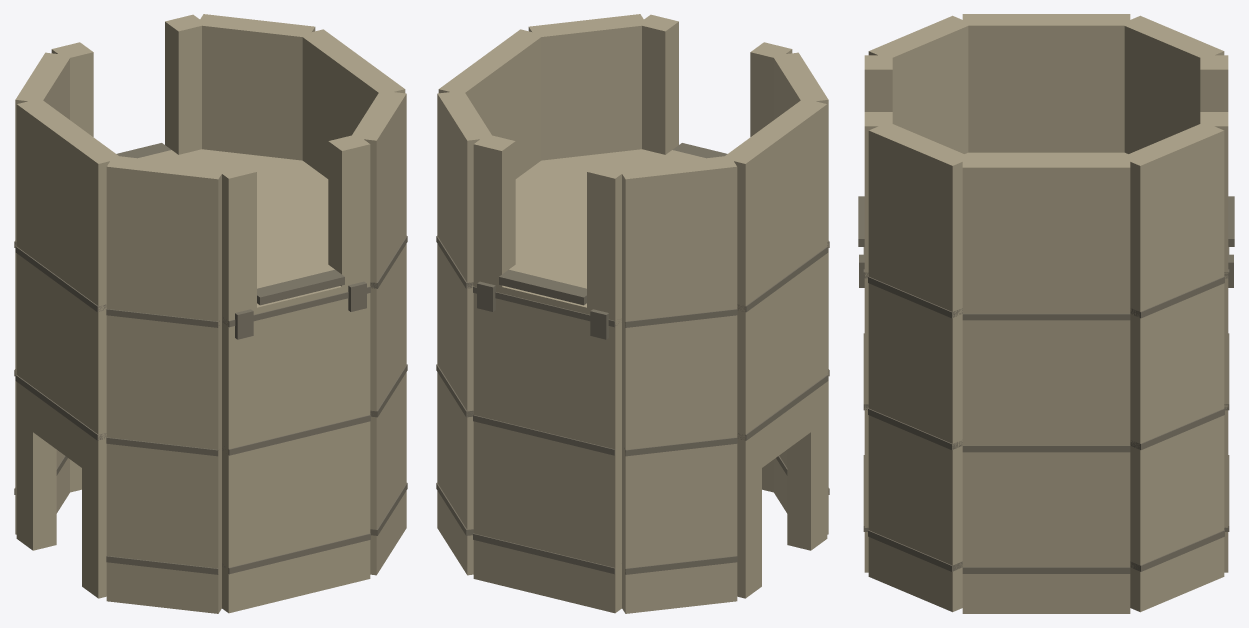
Rendered from reconstruction-tower-base.glb.
3 views of the same model, side by side, from view 1: azimuth 30°, elevation 25°; view 2: azimuth 150°, elevation 25°; view 3: azimuth 270°, elevation 25° (orthographic). The views are drawn at different scales.
Visible parts, largest first — view 1: Mesh_LimestoneStructure, Mesh_DarkStoneCourses; view 2: Mesh_LimestoneStructure, Mesh_DarkStoneCourses; view 3: Mesh_LimestoneStructure, Mesh_DarkStoneCourses.
Boxes of the visible parts, x1,y1,x2,y2 form: Mesh_LimestoneStructure: [15, 14, 406, 613]; Mesh_DarkStoneCourses: [14, 143, 407, 574]; Mesh_LimestoneStructure: [437, 14, 828, 613]; Mesh_DarkStoneCourses: [436, 143, 829, 574]; Mesh_LimestoneStructure: [864, 14, 1228, 613]; Mesh_DarkStoneCourses: [858, 196, 1234, 573].
Size of the model in its own units: 6.54 by 8.8 by 6.72.
